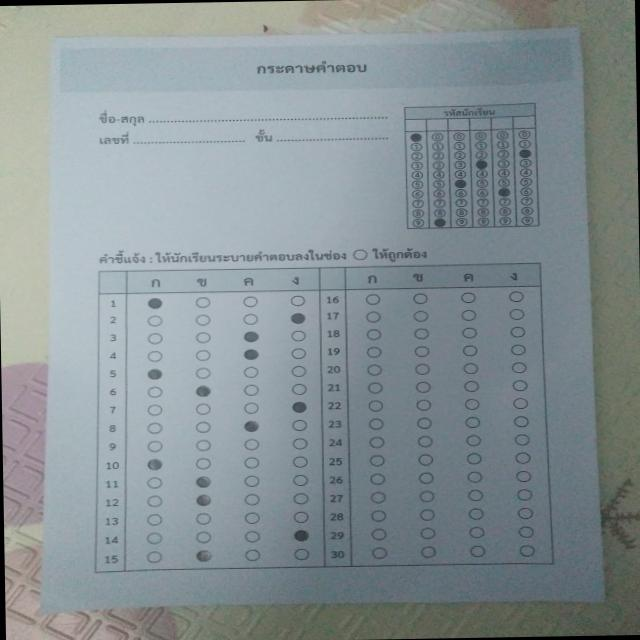Choice: (81, 254, 569, 582)
ID: (399, 97, 552, 237)
